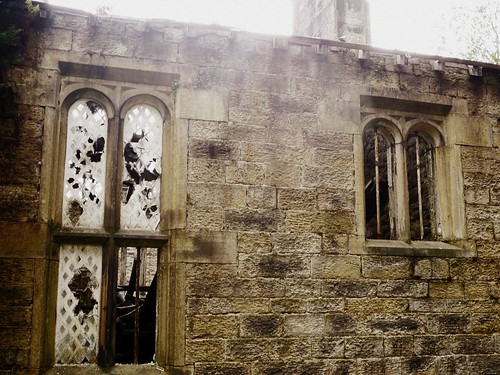building: (9, 12, 500, 375)
window: (46, 77, 176, 371), (354, 96, 455, 257)
